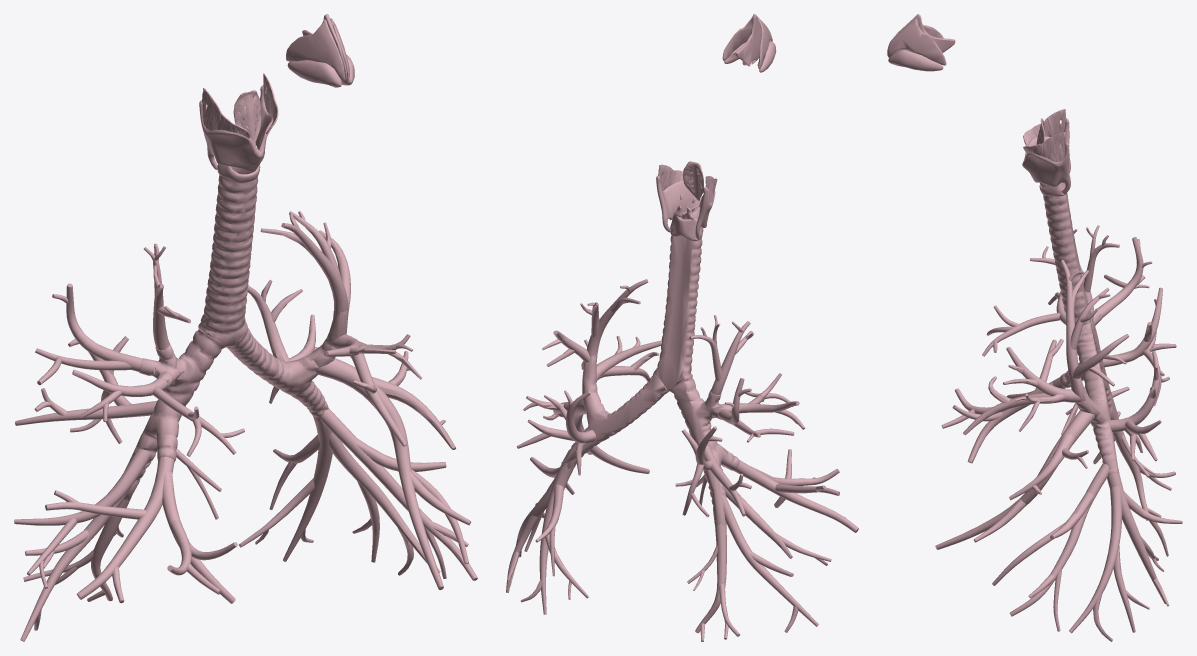
The model's file is respiratory.glb.
The picture shows the model from 3 angles, left to right: view 1: azimuth 30°, elevation 25°; view 2: azimuth 150°, elevation 25°; view 3: azimuth 270°, elevation 25°; orthographic projection. The views are drawn at different scales.
Visible parts, largest first — view 1: FMA7394, FMA68418, FMA7396, FMA68227, FMA68215, FMA68233, FMA68232, FMA68216, FMA68212, FMA55099, FMA68214, FMA68213 (+14 smaller); view 2: FMA7394, FMA7396, FMA68418, FMA68233, FMA68216, FMA68215, FMA68220, FMA68228, FMA68221, FMA55099, FMA68222, FMA68211 (+11 smaller); view 3: FMA7396, FMA7394, FMA68232, FMA68222, FMA68233, FMA68227, FMA68223, FMA68228, FMA55099, FMA68230, FMA68231, FMA68216 (+14 smaller).
Part boxes in pixels (x1,y1,x2,y2): FMA7394: [198, 175, 258, 347]; FMA68418: [124, 327, 225, 500]; FMA7396: [227, 311, 347, 422]; FMA68227: [314, 358, 470, 589]; FMA68215: [45, 447, 175, 603]; FMA68233: [239, 412, 332, 561]; FMA68232: [329, 432, 440, 575]; FMA68216: [15, 336, 156, 443]; FMA68212: [72, 369, 244, 456]; FMA55099: [199, 85, 273, 172]; FMA68214: [162, 471, 237, 603]; FMA68213: [35, 283, 157, 385]; FMA7394: [654, 235, 702, 391]; FMA7396: [561, 356, 668, 469]; FMA68418: [671, 375, 739, 525]; FMA68233: [520, 453, 588, 614]; FMA68216: [675, 426, 751, 517]; FMA68215: [734, 457, 858, 532]; FMA68220: [721, 495, 818, 632]; FMA68228: [516, 390, 596, 475]; FMA68221: [687, 520, 739, 641]; FMA55099: [656, 175, 715, 238]; FMA68222: [581, 336, 661, 382]; FMA68211: [689, 315, 754, 395]; FMA7396: [1068, 330, 1118, 474]; FMA7394: [1043, 192, 1092, 333]; FMA68232: [1069, 486, 1149, 641]; FMA68222: [963, 347, 1081, 435]; FMA68233: [1107, 461, 1182, 606]; FMA68227: [935, 410, 1094, 549]; FMA68223: [1061, 260, 1110, 401]; FMA68228: [1109, 351, 1161, 461]; FMA55099: [1022, 118, 1070, 193]; FMA68230: [1009, 462, 1108, 616]; FMA68231: [992, 491, 1093, 631]; FMA68216: [1103, 287, 1176, 405].
Size of the model in its own units: 0.489 by 0.7925 by 0.3843.
